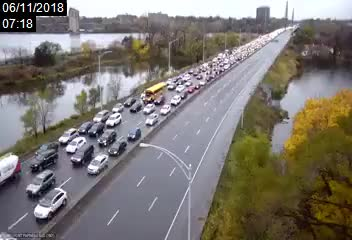congestion: (1, 141, 109, 228), (60, 113, 142, 158), (108, 89, 176, 124), (153, 69, 200, 96), (187, 61, 225, 80), (212, 52, 243, 64)
personal_car: (32, 187, 70, 218), (26, 170, 58, 193), (29, 151, 61, 169), (72, 144, 95, 166), (88, 154, 109, 176), (107, 136, 127, 158), (35, 142, 60, 157), (66, 137, 87, 154), (60, 127, 76, 146), (98, 128, 115, 144), (88, 122, 104, 136), (126, 127, 143, 140), (107, 113, 122, 127), (146, 113, 160, 127), (93, 111, 110, 122), (78, 121, 93, 133), (143, 102, 155, 114), (112, 102, 124, 114), (130, 102, 142, 113), (171, 93, 181, 106), (159, 104, 172, 114), (154, 94, 165, 105), (124, 96, 136, 106), (175, 83, 185, 92), (178, 91, 188, 99), (185, 85, 195, 92), (168, 83, 176, 89), (166, 78, 172, 85)
school_bus: (144, 82, 167, 106)
truck: (1, 149, 21, 191)
